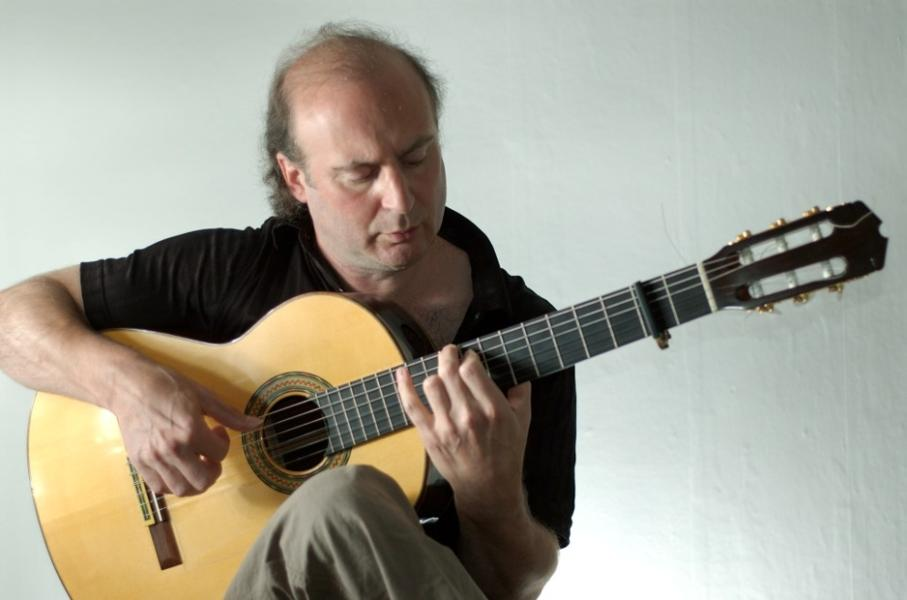person: (8, 37, 578, 600)
